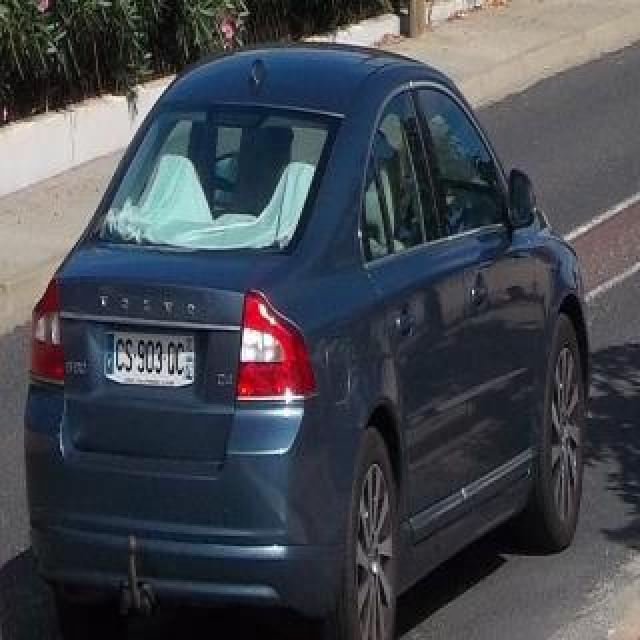Autre: (90, 325, 215, 390)
